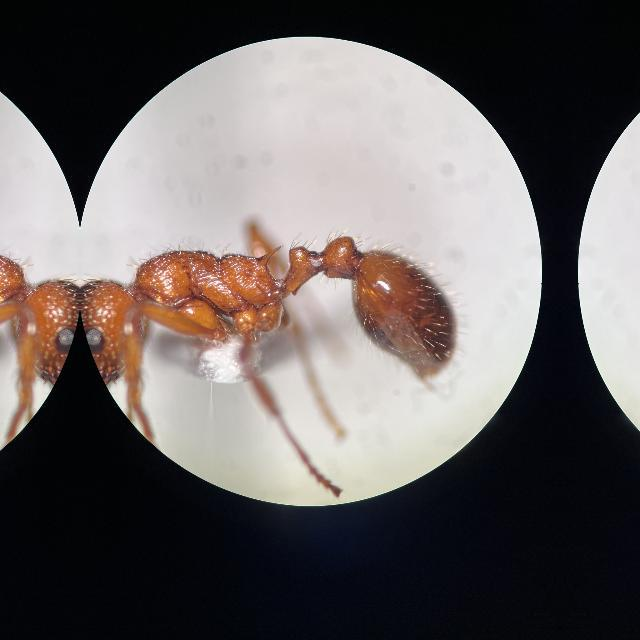Myrmica: (82, 139, 464, 435), (0, 139, 78, 435)
